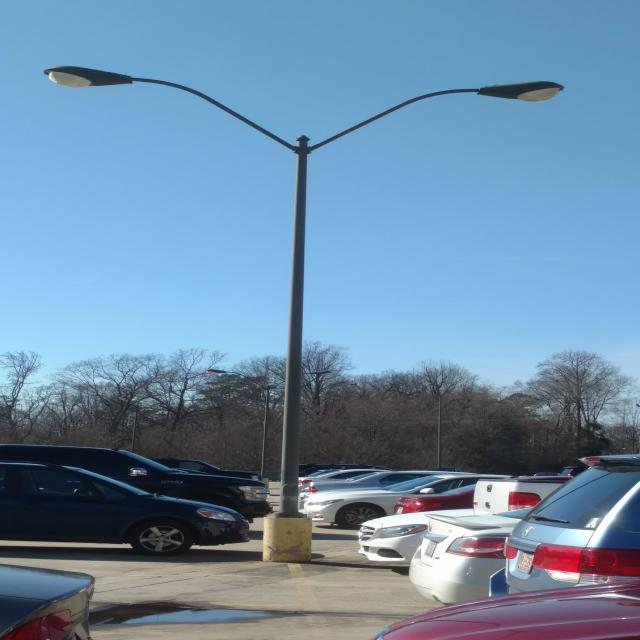Electric pole: (46, 65, 555, 561)
